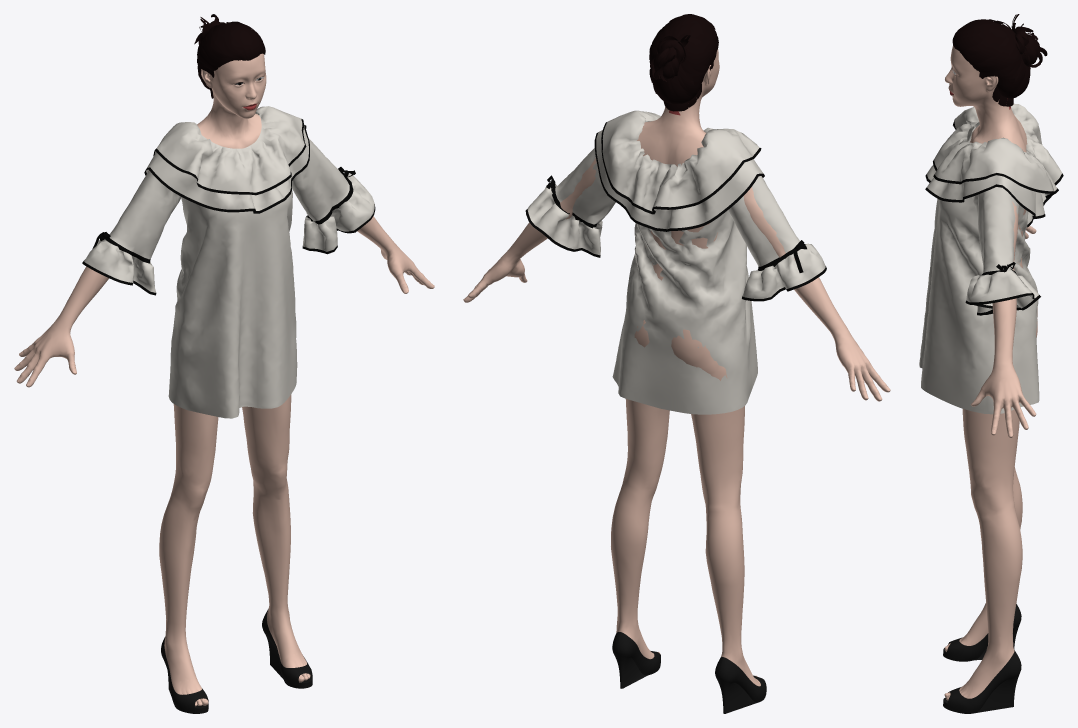
The model's file is garment2_final.FBX.
3 views of the same model, side by side, from view 1: azimuth 30°, elevation 25°; view 2: azimuth 150°, elevation 25°; view 3: azimuth 270°, elevation 25° (orthographic).
Visible parts, largest first — view 1: garment2_final, bodyShape_skin_Shape, hair_Shape, shoes_l_Shape, shoes_r_Shape; view 2: garment2_final, bodyShape_skin_Shape, hair_Shape, shoes_r_Shape, shoes_l_Shape; view 3: garment2_final, bodyShape_skin_Shape, hair_Shape, shoes_l_Shape, shoes_r_Shape.
Part boxes in pixels (box(x1,y1,x2,y2)): garment2_final: box(82, 106, 375, 418); bodyShape_skin_Shape: box(14, 53, 434, 706); hair_Shape: box(194, 14, 265, 98); shoes_l_Shape: box(262, 609, 312, 688); shoes_r_Shape: box(161, 637, 208, 713); garment2_final: box(525, 110, 826, 414); bodyShape_skin_Shape: box(463, 49, 890, 686); hair_Shape: box(649, 14, 718, 111); shoes_r_Shape: box(715, 657, 766, 713); shoes_l_Shape: box(612, 632, 660, 688); garment2_final: box(919, 103, 1063, 414); bodyShape_skin_Shape: box(944, 45, 1037, 700); hair_Shape: box(952, 14, 1047, 106); shoes_l_Shape: box(943, 650, 1021, 713); shoes_r_Shape: box(943, 604, 1021, 661).
Bounding box in the file's own units: 506 × 782 × 155.
